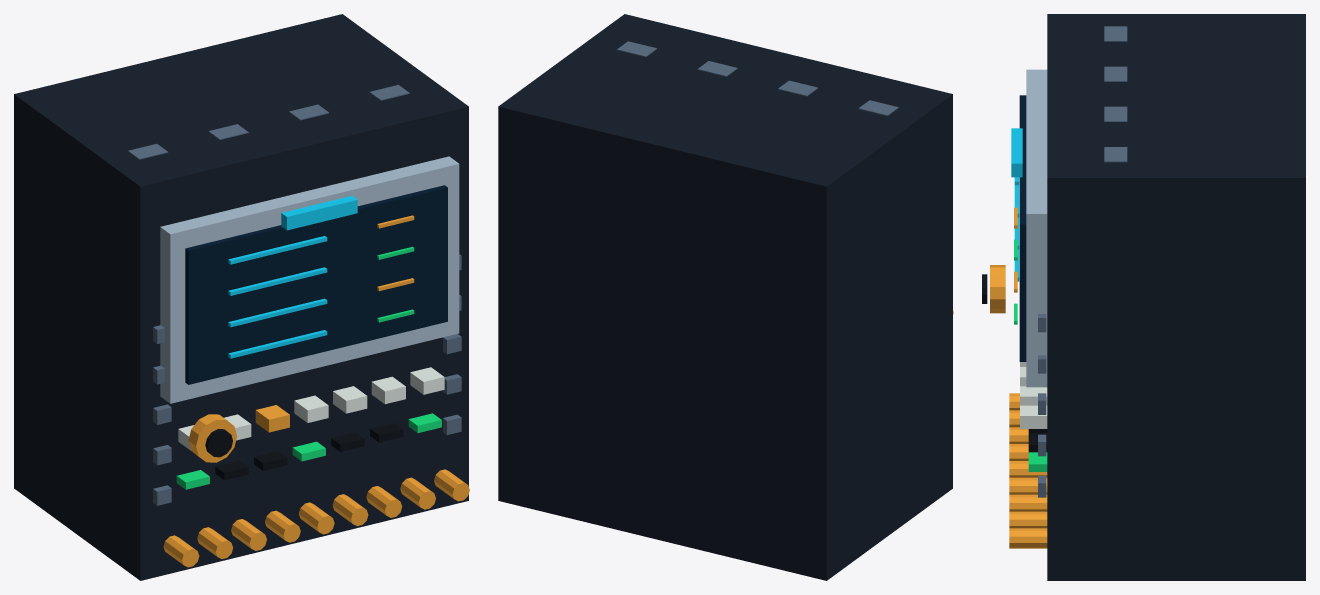
The model's file is 36_L88_OxygenOutputQualityMonitor.fbx.
3 views of the same model, side by side, from view 1: azimuth 30°, elevation 25°; view 2: azimuth 150°, elevation 25°; view 3: azimuth 270°, elevation 25° (orthographic). The views are drawn at different scales.
Visible parts, largest first — view 1: L87_OxygenOutputQualityMonitor_Part_0000, L87_OxygenOutputQualityMonitor_Part_0002, L87_OxygenOutputQualityMonitor_Part_0001, L87_OxygenOutputQualityMonitor_Part_0004, L87_OxygenOutputQualityMonitor_Part_0008, L87_OxygenOutputQualityMonitor_Part_0006, L87_OxygenOutputQualityMonitor_Part_0003, L87_OxygenOutputQualityMonitor_Part_0007, L87_OxygenOutputQualityMonitor_Part_0005, L87_OxygenOutputQualityMonitor_Part_0009, L87_OxygenOutputQualityMonitor_Part_0010, L87_OxygenOutputQualityMonitor_Part_0011; view 2: L87_OxygenOutputQualityMonitor_Part_0000, L87_OxygenOutputQualityMonitor_Part_0008; view 3: L87_OxygenOutputQualityMonitor_Part_0000, L87_OxygenOutputQualityMonitor_Part_0001, L87_OxygenOutputQualityMonitor_Part_0004, L87_OxygenOutputQualityMonitor_Part_0008, L87_OxygenOutputQualityMonitor_Part_0002, L87_OxygenOutputQualityMonitor_Part_0006, L87_OxygenOutputQualityMonitor_Part_0010, L87_OxygenOutputQualityMonitor_Part_0009, L87_OxygenOutputQualityMonitor_Part_0005, L87_OxygenOutputQualityMonitor_Part_0003.
Part boxes in pixels (x1,y1,x2,y2): L87_OxygenOutputQualityMonitor_Part_0000: (14, 14, 468, 580); L87_OxygenOutputQualityMonitor_Part_0002: (185, 185, 447, 384); L87_OxygenOutputQualityMonitor_Part_0001: (160, 156, 459, 403); L87_OxygenOutputQualityMonitor_Part_0004: (163, 215, 469, 567); L87_OxygenOutputQualityMonitor_Part_0008: (128, 85, 461, 505); L87_OxygenOutputQualityMonitor_Part_0006: (178, 367, 444, 450); L87_OxygenOutputQualityMonitor_Part_0003: (228, 236, 327, 358); L87_OxygenOutputQualityMonitor_Part_0007: (215, 423, 403, 480); L87_OxygenOutputQualityMonitor_Part_0005: (176, 246, 441, 489); L87_OxygenOutputQualityMonitor_Part_0009: (281, 196, 357, 230); L87_OxygenOutputQualityMonitor_Part_0010: (188, 414, 236, 462); L87_OxygenOutputQualityMonitor_Part_0011: (205, 429, 232, 457); L87_OxygenOutputQualityMonitor_Part_0000: (498, 14, 952, 580); L87_OxygenOutputQualityMonitor_Part_0008: (617, 41, 898, 115); L87_OxygenOutputQualityMonitor_Part_0000: (1047, 14, 1305, 580); L87_OxygenOutputQualityMonitor_Part_0001: (1026, 69, 1047, 387); L87_OxygenOutputQualityMonitor_Part_0004: (1009, 207, 1047, 548); L87_OxygenOutputQualityMonitor_Part_0008: (1038, 26, 1127, 497); L87_OxygenOutputQualityMonitor_Part_0002: (1019, 95, 1026, 361); L87_OxygenOutputQualityMonitor_Part_0006: (1020, 362, 1047, 428); L87_OxygenOutputQualityMonitor_Part_0010: (990, 265, 1005, 313); L87_OxygenOutputQualityMonitor_Part_0009: (1011, 128, 1022, 177); L87_OxygenOutputQualityMonitor_Part_0005: (1014, 239, 1047, 471); L87_OxygenOutputQualityMonitor_Part_0003: (1014, 177, 1019, 281).
Bounding box in the file's own units: 104 × 120 × 86.88.
